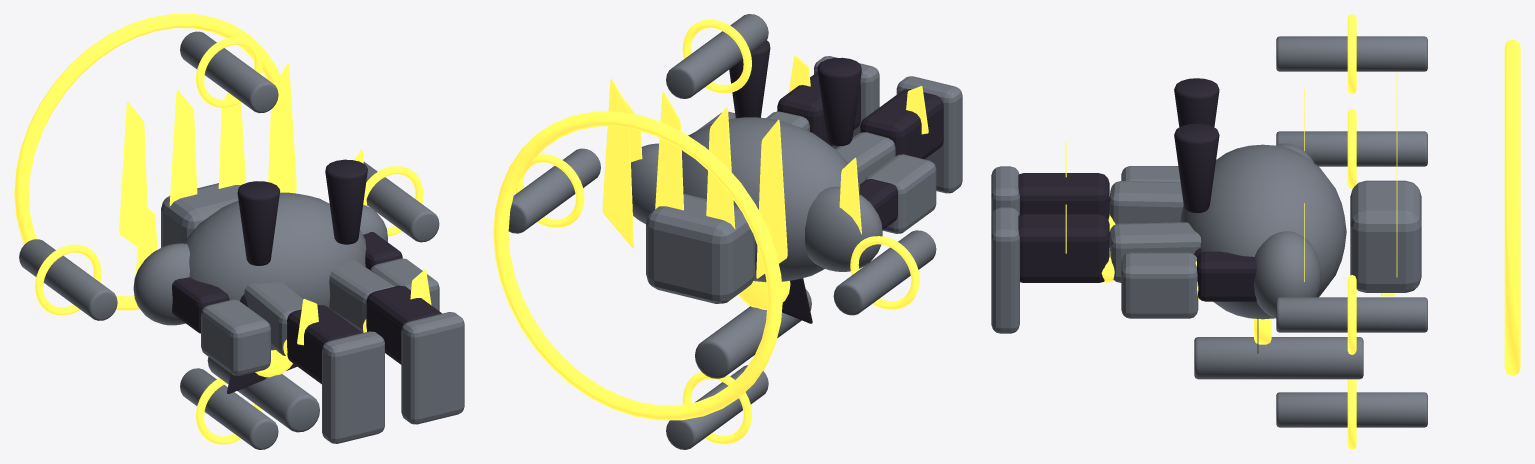
The model's file is boss_thunder_enemy.glb.
The picture shows the model from 3 angles, left to right: view 1: azimuth 30°, elevation 25°; view 2: azimuth 150°, elevation 25°; view 3: azimuth 270°, elevation 25°; orthographic projection. The views are drawn at different scales.
Parts seen in each view (by area): view 1: torso, foot.001, boss-halo, foot, forearm, thunder-cannon1, thunder-cannon2, thunder-cannon3, shoulder-shell, enemy-cannon, boss-banner0, lower-leg.001 (+23 smaller); view 2: boss-halo, torso, head, shoulder-shell, thunder-cannon1, thunder-cannon2, lower-leg, enemy-cannon, thunder-cannon0, boss-banner3, forearm, foot (+20 smaller); view 3: torso, head, enemy-cannon, lower-leg.001, boss-halo, thunder-cannon0, thunder-cannon1, thunder-cannon3, forearm.001, thunder-cannon2, shoulder-shell.001, lower-leg (+12 smaller).
Boxes of the visible parts, x1,y1,x2,y2 form: torso: (184,192,366,350); foot.001: (401,312,464,424); boss-halo: (14,14,280,310); foot: (322,331,384,443); forearm: (201,299,270,375); thunder-cannon1: (180,31,278,113); thunder-cannon2: (19,239,117,320); thunder-cannon3: (180,368,278,449); shoulder-shell: (133,243,189,325); enemy-cannon: (207,357,319,432); boss-banner0: (119,102,147,246); lower-leg.001: (366,285,441,364); boss-halo: (493,111,782,420); torso: (681,117,859,282); head: (646,194,754,303); shoulder-shell: (805,186,882,271); thunder-cannon1: (666,14,768,98); thunder-cannon2: (833,230,936,315); lower-leg: (860,89,943,159); enemy-cannon: (695,289,811,378); thunder-cannon0: (508,148,600,233); boss-banner3: (602,79,633,248); forearm: (864,154,936,233); foot: (896,76,962,193); torso: (1180,144,1346,319); head: (1350,180,1421,292); enemy-cannon: (1194,337,1363,379); lower-leg.001: (1018,214,1109,282); boss-halo: (1504,39,1520,376); thunder-cannon0: (1276,297,1427,332); thunder-cannon1: (1276,36,1427,71); thunder-cannon3: (1276,392,1427,427); forearm.001: (1121,252,1198,318); thunder-cannon2: (1276,131,1427,166); shoulder-shell.001: (1254,231,1320,318); lower-leg: (1018,173,1109,219).
Bounding box in the file's own units: 4.37 × 4.37 × 4.9.
